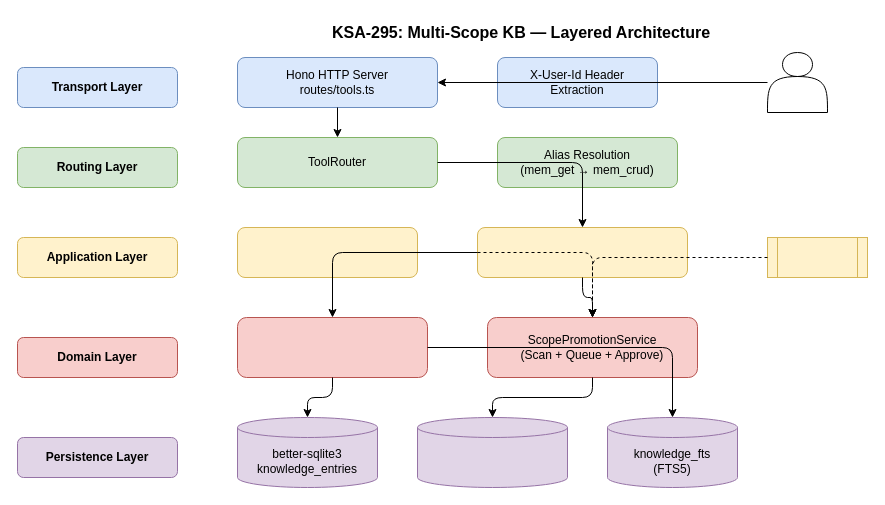
The diagram is 885 pixels wide and 505 high, and some of its shapes have lost their labels. The shapes that lost their labels are listed below. From the top down, each one's centre as x and y in pixels, then its label:
At (797,82): "AI Agents (via MCP)".
At (327,252): "MemoryModule (Lifecycle + Timer)".
At (582,252): "MemoryToolDispatcher (Scope Context Injection)".
At (817,257): "setInterval (1 hour)".
At (332,347): "MemoryEngine (CRUD + FTS + Scope)".
At (492,452): "kb_promotion_queue".
